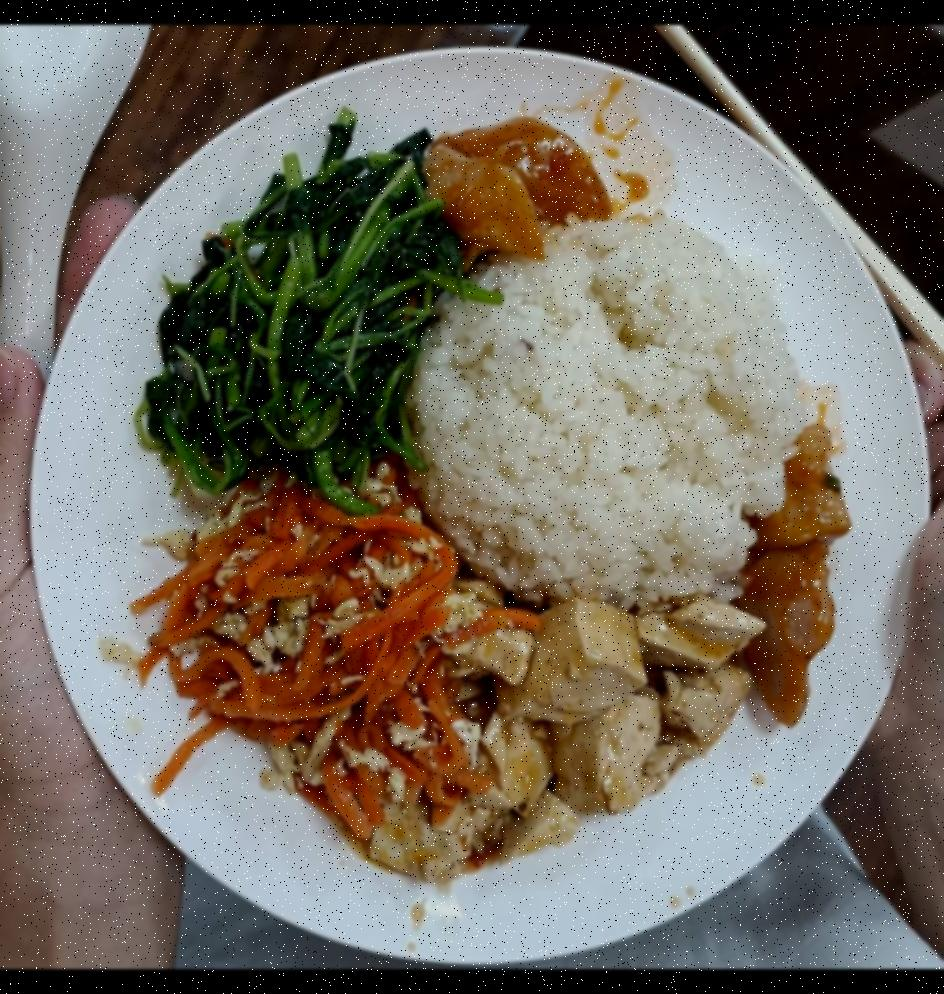plate: (14, 43, 921, 967)
side dish: (152, 143, 444, 515), (158, 531, 512, 790), (452, 596, 751, 880), (746, 412, 854, 726), (429, 116, 618, 252)
white rice: (420, 213, 784, 607)
